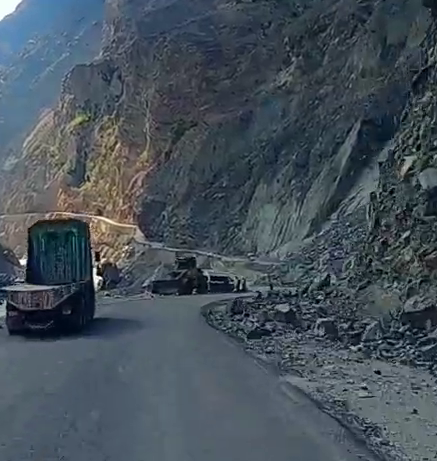stright: (20, 271, 231, 443)
